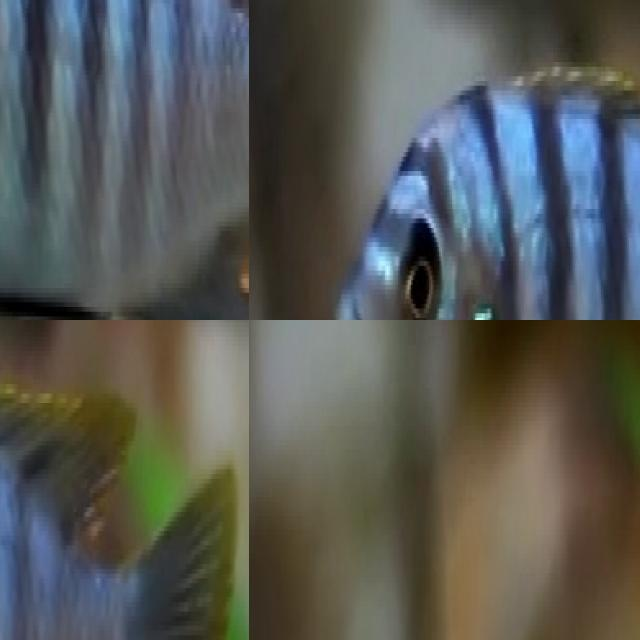fish: (303, 57, 640, 320), (0, 0, 249, 320), (0, 320, 249, 640)
